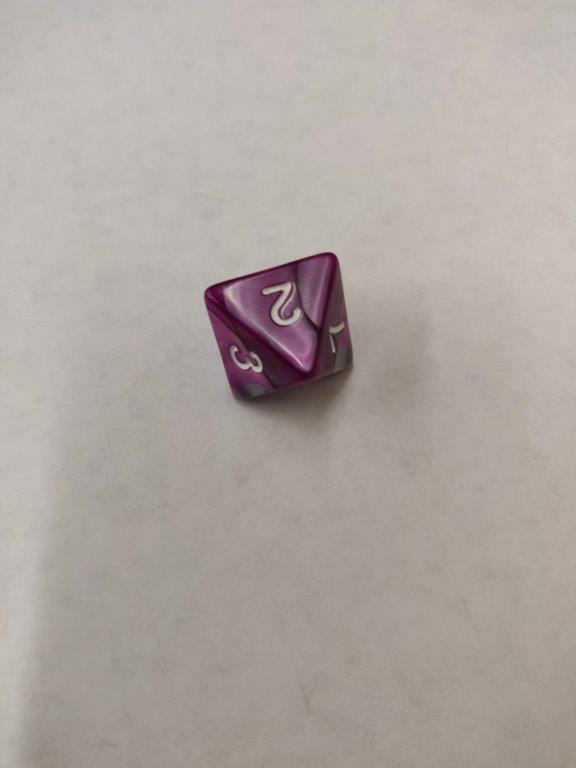d8-2: (201, 253, 353, 401)
